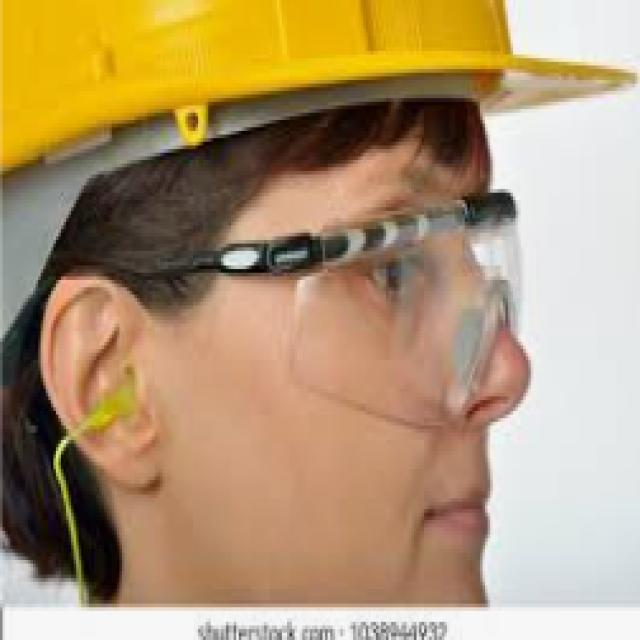glasses: (199, 187, 527, 442)
